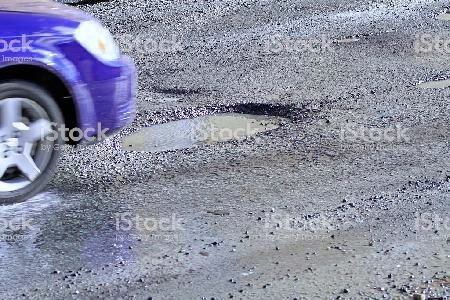pothole: (113, 100, 309, 156), (413, 75, 449, 89)
